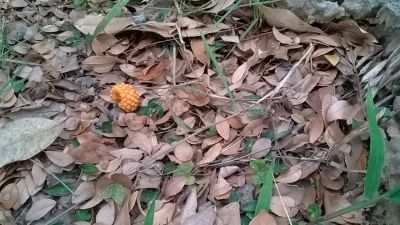eggs: (109, 82, 142, 112)
